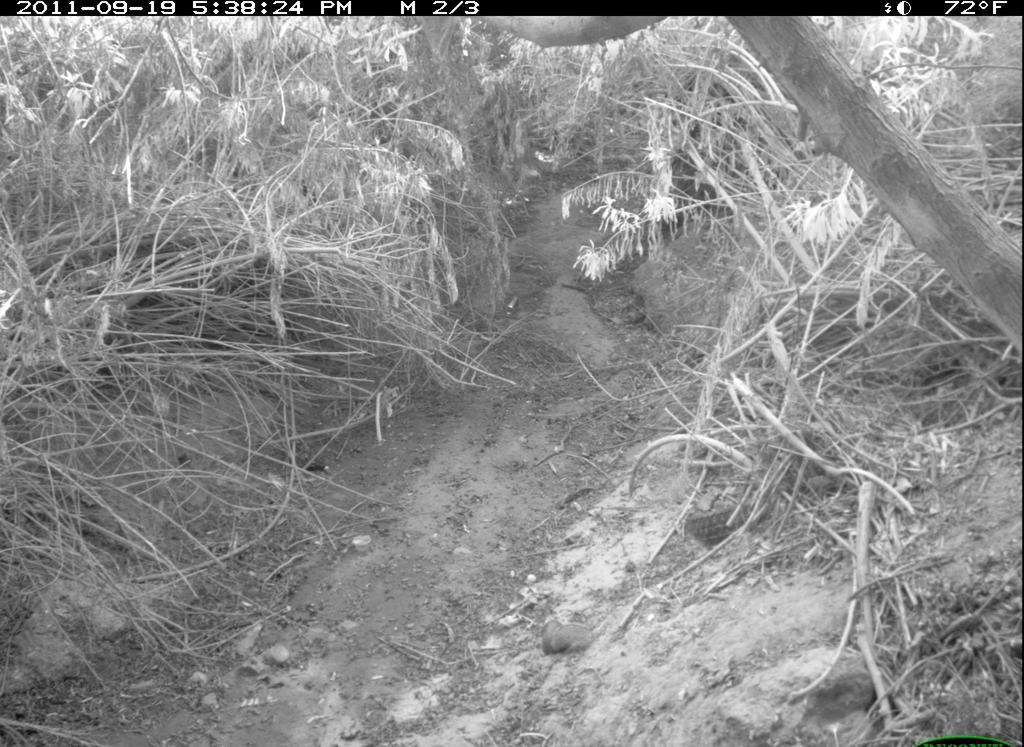squirrel: (534, 608, 606, 661)
